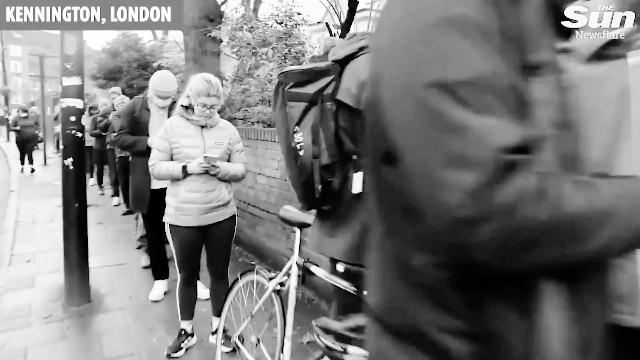berdiri: (150, 69, 256, 359)
